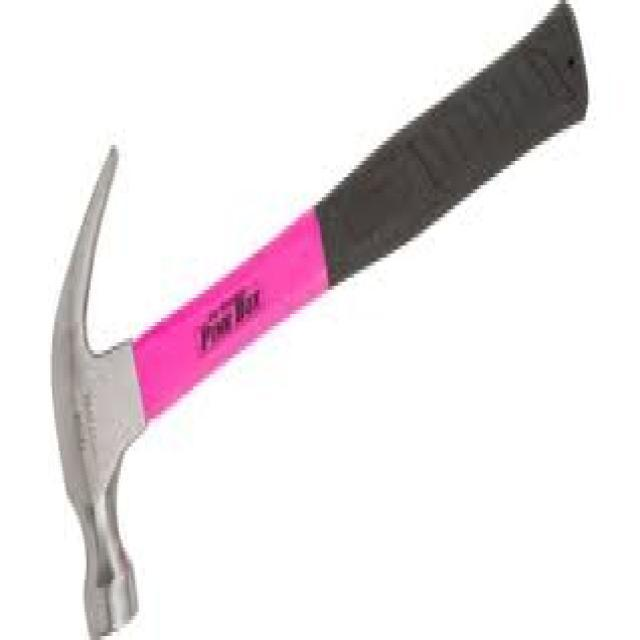Palu: (51, 1, 594, 628)
